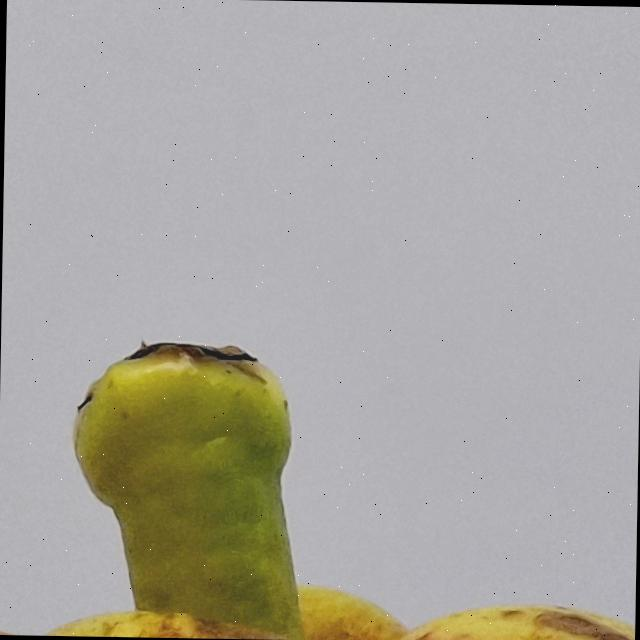mangosteen: (0, 364, 639, 640)
